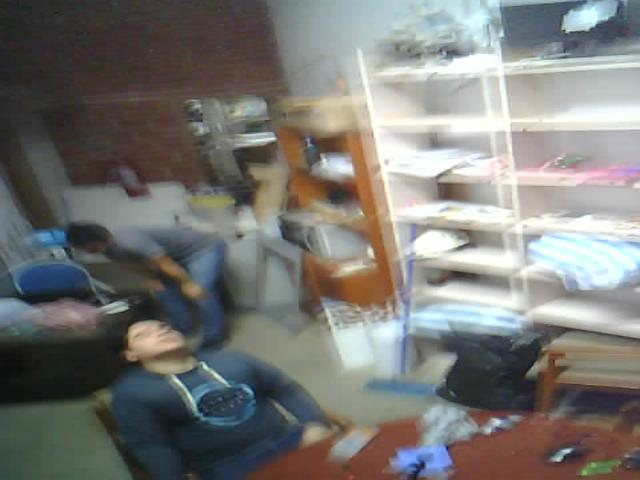person: (94, 307, 354, 480), (47, 193, 236, 316)
